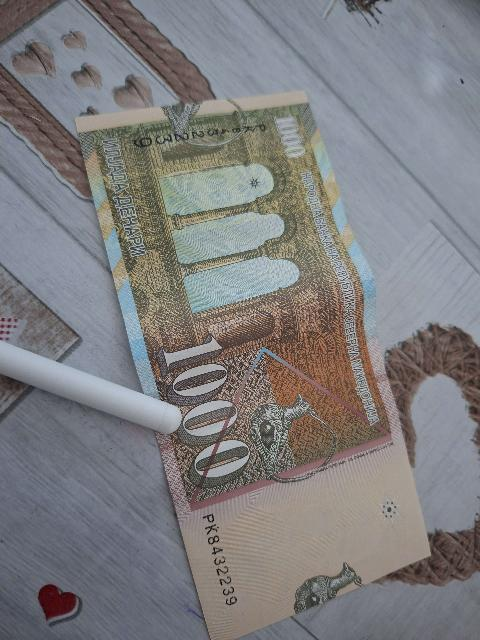note: (78, 92, 429, 638)
